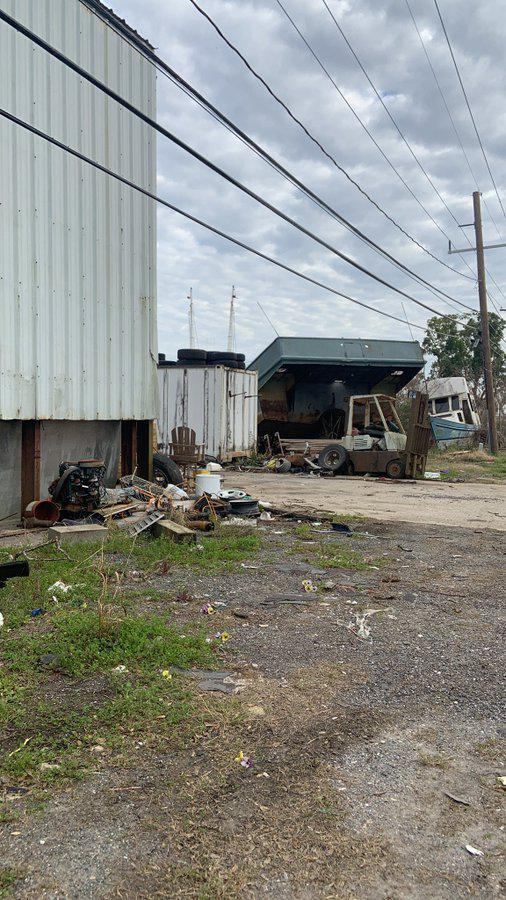affected: (0, 0, 161, 521)
